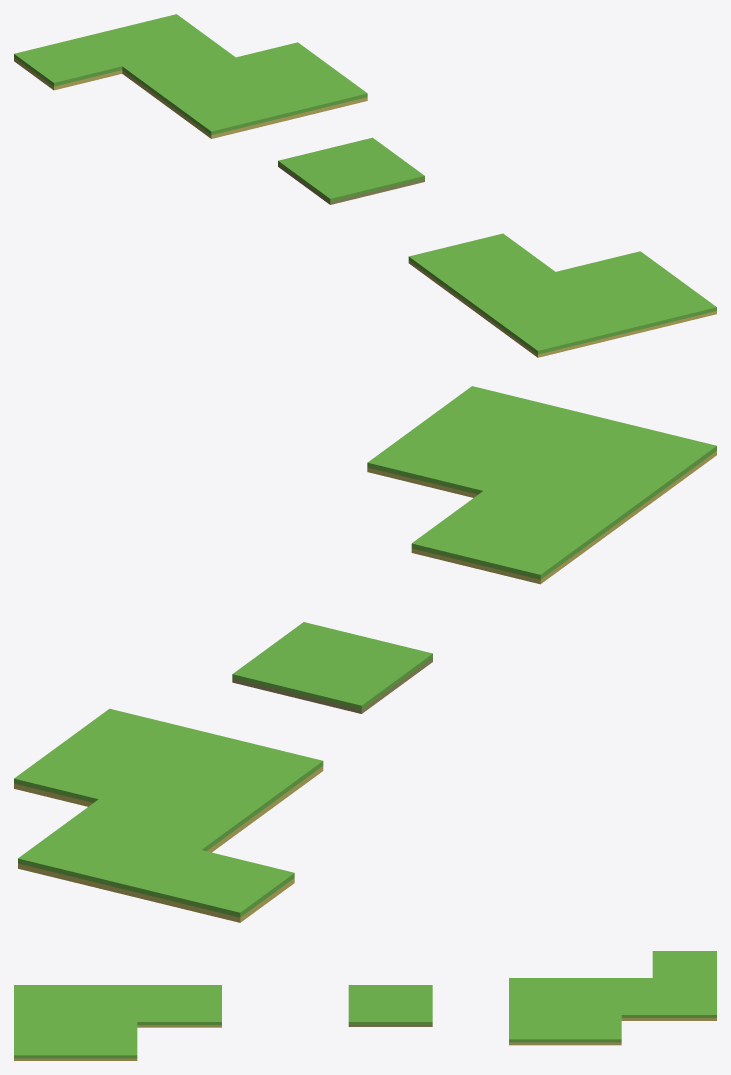
Rendered from Grama Terreno 3.fbx.
3 views of the same model, one above another, from view 1: azimuth 30°, elevation 25°; view 2: azimuth 150°, elevation 25°; view 3: azimuth 270°, elevation 25° (orthographic). The views are drawn at different scales.
Visible parts, largest first — view 1: Terreninho 3, Terreninho 1, Terreninho 2; view 2: Terreninho 3, Terreninho 1, Terreninho 2; view 3: Terreninho 3, Terreninho 1, Terreninho 2.
Boxes of the visible parts, box(x1,y1,x2,y2) form: Terreninho 3: box(14, 14, 367, 138); Terreninho 1: box(408, 233, 716, 357); Terreninho 2: box(278, 137, 424, 204); Terreninho 3: box(14, 708, 323, 922); Terreninho 1: box(367, 386, 716, 584); Terreninho 2: box(232, 622, 432, 713); Terreninho 3: box(509, 951, 716, 1045); Terreninho 1: box(14, 985, 221, 1060); Terreninho 2: box(348, 985, 432, 1026).
Size of the model in its own units: 729 by 21.82 by 2066.
